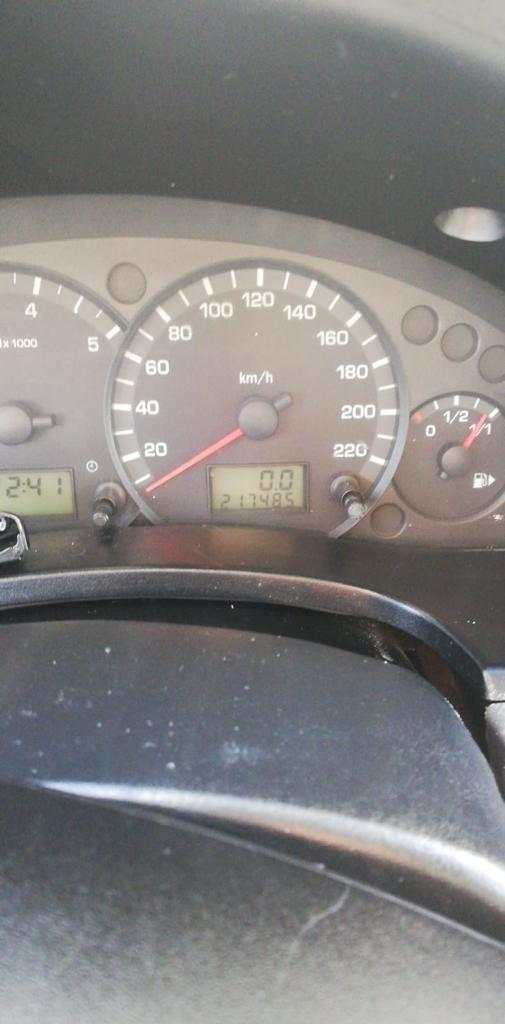,: (274, 487, 277, 491)
0: (278, 468, 293, 490), (259, 469, 273, 490)
1: (239, 494, 244, 507)
2: (220, 494, 230, 508)
4: (259, 493, 269, 507)
5: (285, 491, 294, 507)
7: (247, 493, 256, 508)
8: (272, 492, 281, 507)
odometer: (208, 465, 305, 510)
